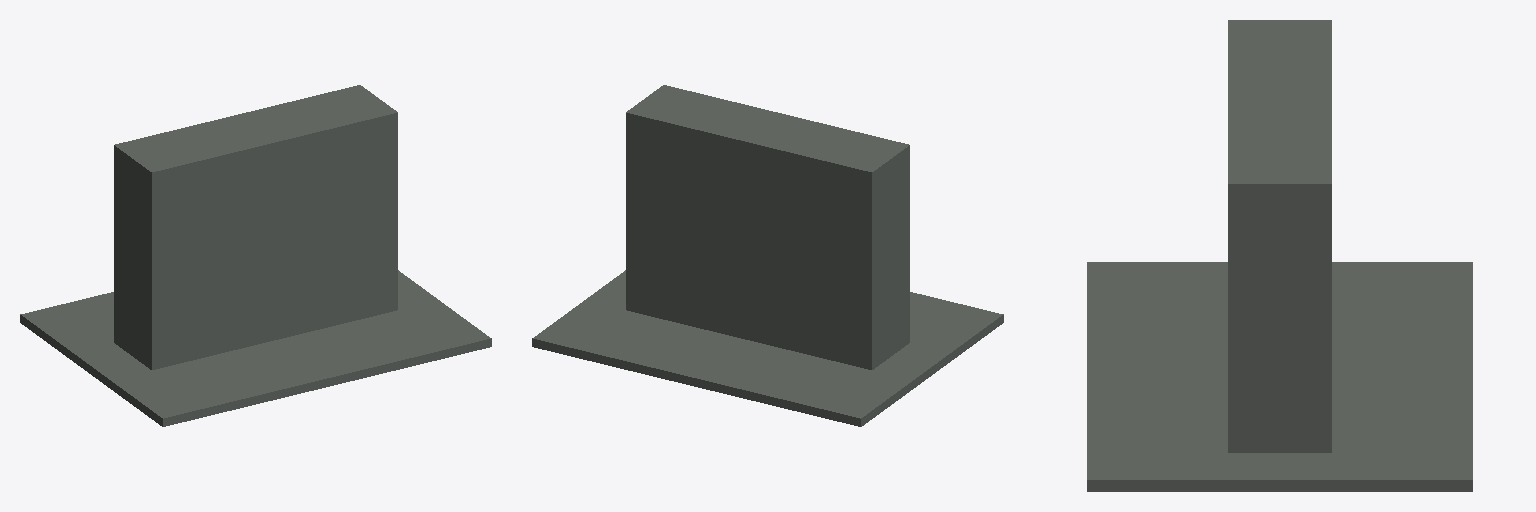
The robot description file, URDF, robot "PP_Stand":
<?xml version="1.0" encoding="utf-8"?>
<!-- This URDF was automatically created by SolidWorks to URDF Exporter! Originally created by [author] ([email redacted]) 
     Commit Version: 1.6.0-1-g15f4949  Build Version: 1.6.7594.29634
     For more information, please see http://wiki.ros.org/sw_urdf_exporter -->
<robot
  name="PP_Stand">
  <link
    name="base_link">
    <inertial>
      <origin
        xyz="-3.8056E-17 0.093571 1.2085E-17"
        rpy="0 0 0" />
      <mass
        value="73.92" />
      <inertia
        ixx="0.55531"
        ixy="1.0381E-16"
        ixz="2.9587E-17"
        iyy="0.76278"
        iyz="4.1365E-17"
        izz="1.0553" />
    </inertial>
    <visual>
      <origin
        xyz="0 0 0"
        rpy="0 0 0" />
      <geometry>
        <mesh
          filename="package://PP_Stand/meshes/base_link.STL" />
      </geometry>
      <material
        name="">
        <color
          rgba="0.43137 0.45098 0.43137 1" />
      </material>
    </visual>
    <collision>
      <origin
        xyz="0 0 0"
        rpy="0 0 0" />
      <geometry>
        <mesh
          filename="package://PP_Stand/meshes/base_link.STL" />
      </geometry>
    </collision>
  </link>
</robot>

--- What the picture shows (computed from the rendered views, not written in the file) ---
The picture shows the robot from 3 angles, left to right: view 1: azimuth 30°, elevation 25°; view 2: azimuth 150°, elevation 25°; view 3: azimuth 270°, elevation 25°; orthographic projection.
Robot: PP_Stand — 1 links, 0 joints (none); root link base_link; default pose: every joint at zero.
Links seen in each view (by area): view 1: base_link; view 2: base_link; view 3: base_link.
Link boxes in pixels (x1,y1,x2,y2): base_link: [20, 85, 491, 426]; base_link: [532, 85, 1003, 426]; base_link: [1087, 20, 1472, 491].
Size in the robot's own frame: 0.4 by 0.3 by 0.24 metres.
1 mesh visuals loaded from 1 distinct referenced files (1 binary STL).